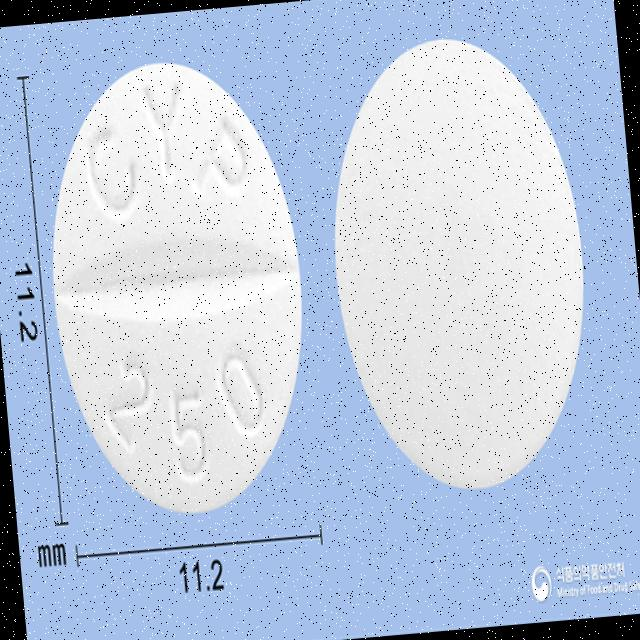Cypro: (32, 46, 320, 525)
